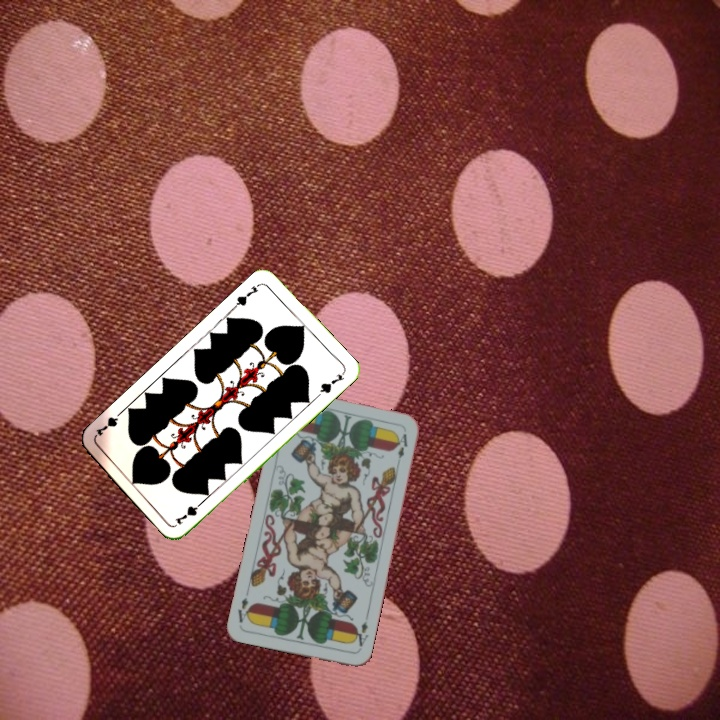EA: (349, 617, 371, 653)
G7: (171, 496, 207, 527), (230, 279, 263, 311)
